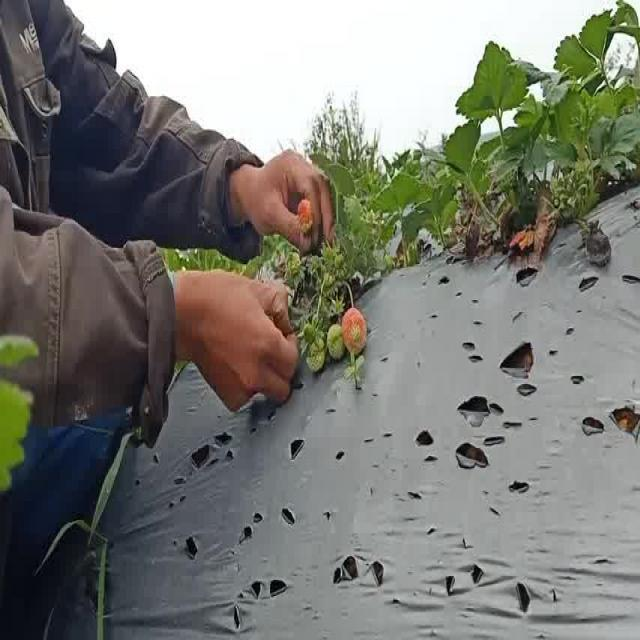Mancha negra Antracnosis: (580, 212, 616, 270)
